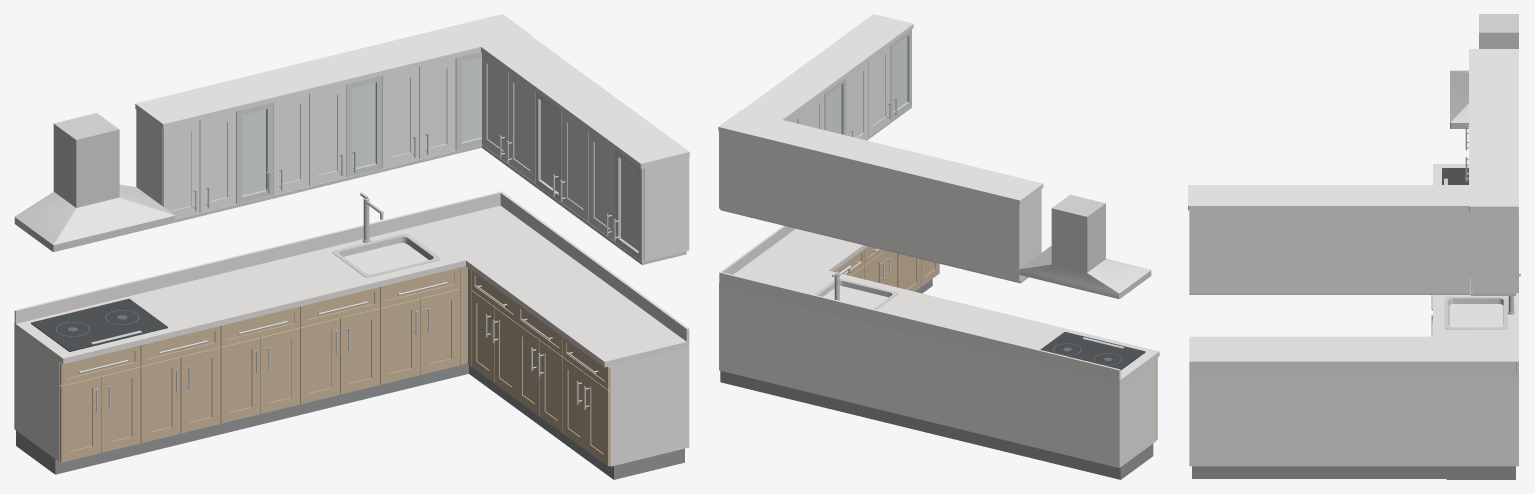
3 renders of one model, left to right at view 1: azimuth 30°, elevation 25°; view 2: azimuth 150°, elevation 25°; view 3: azimuth 270°, elevation 25°, orthographic. The views are drawn at different scales.
Parts seen in each view (by area): view 1: Tủ bếp chữ L Dài cạnh chính=3600; Dài cạnh phụ=2400; Sâu tủ ; view 2: Tủ bếp chữ L Dài cạnh chính=3600; Dài cạnh phụ=2400; Sâu tủ ; view 3: Tủ bếp chữ L Dài cạnh chính=3600; Dài cạnh phụ=2400; Sâu tủ .
Boxes of the visible parts, x1=… form: Tủ bếp chữ L Dài cạnh chính=3600; Dài cạnh phụ=2400; Sâu tủ : x1=14, y1=14, x2=689, y2=479; Tủ bếp chữ L Dài cạnh chính=3600; Dài cạnh phụ=2400; Sâu tủ : x1=718, y1=14, x2=1159, y2=479; Tủ bếp chữ L Dài cạnh chính=3600; Dài cạnh phụ=2400; Sâu tủ : x1=1188, y1=14, x2=1520, y2=479.
Bounding box in the file's own units: 3.61 × 2.2 × 2.42.
